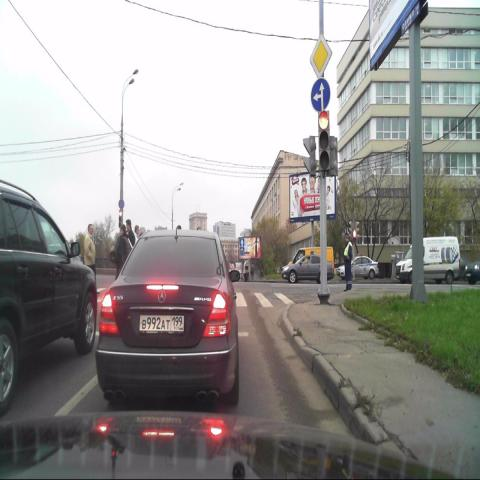4_1_5: (311, 78, 330, 111)
